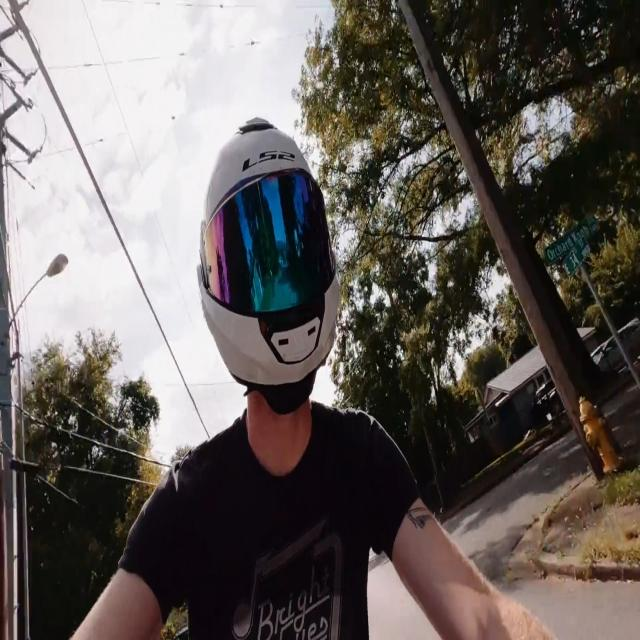Helmet_Wearer: (182, 119, 343, 428)
Person: (65, 114, 531, 640)
